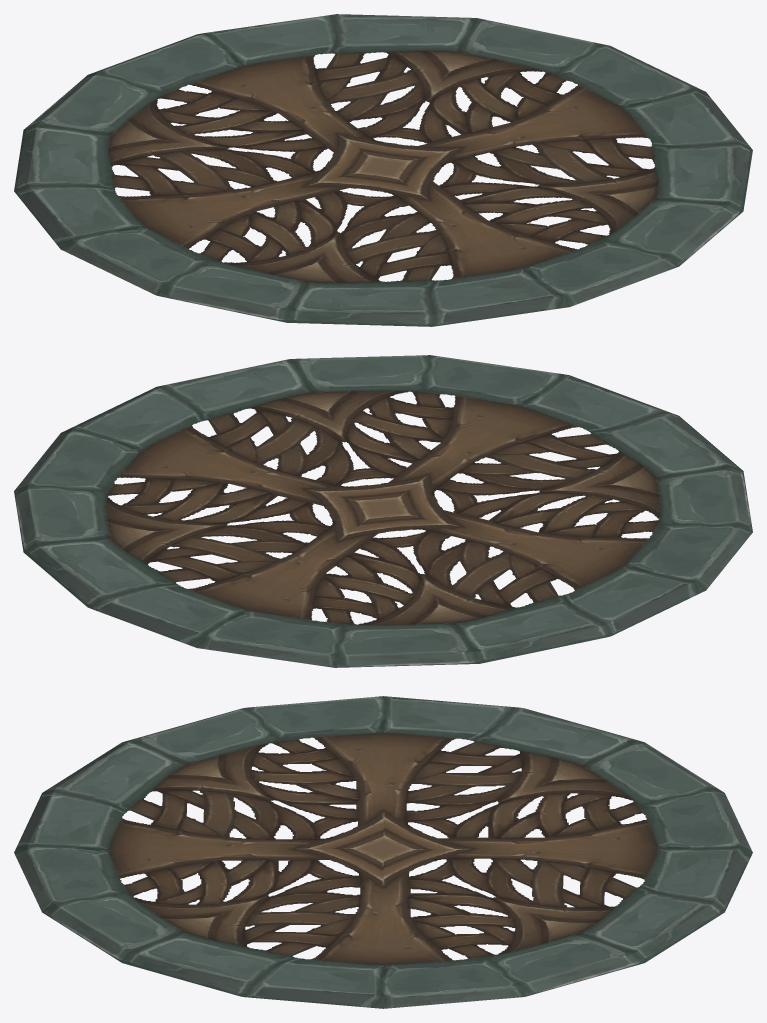
The model's file is yw_shanlin_manhole_001.FBX.
The picture shows the model from 3 angles, top to bottom: view 1: azimuth 30°, elevation 25°; view 2: azimuth 150°, elevation 25°; view 3: azimuth 270°, elevation 25°; orthographic projection.
Visible parts, largest first — view 1: yw_shanlin_manhole_001; view 2: yw_shanlin_manhole_001; view 3: yw_shanlin_manhole_001.
Boxes of the visible parts, bbox=[...] form: yw_shanlin_manhole_001: bbox=[14, 14, 752, 326]; yw_shanlin_manhole_001: bbox=[14, 355, 752, 667]; yw_shanlin_manhole_001: bbox=[14, 696, 752, 1008].
Size of the model in its own units: 1035 by 1035 by 9.49.
